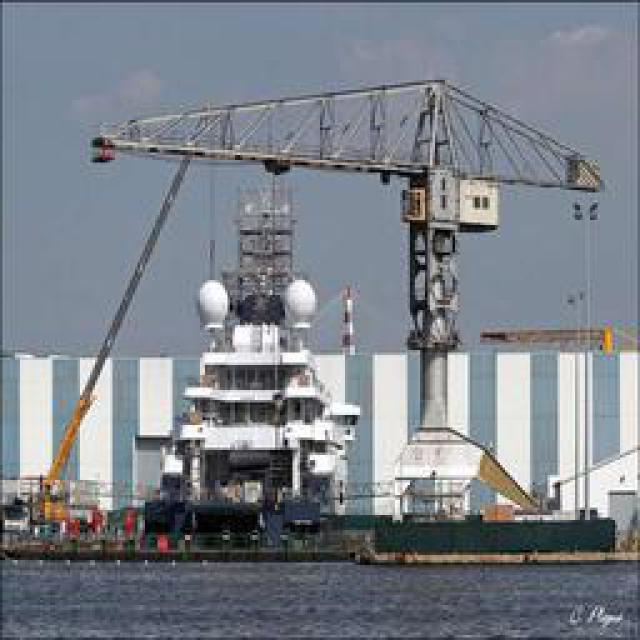Ship: (159, 238, 378, 538)
